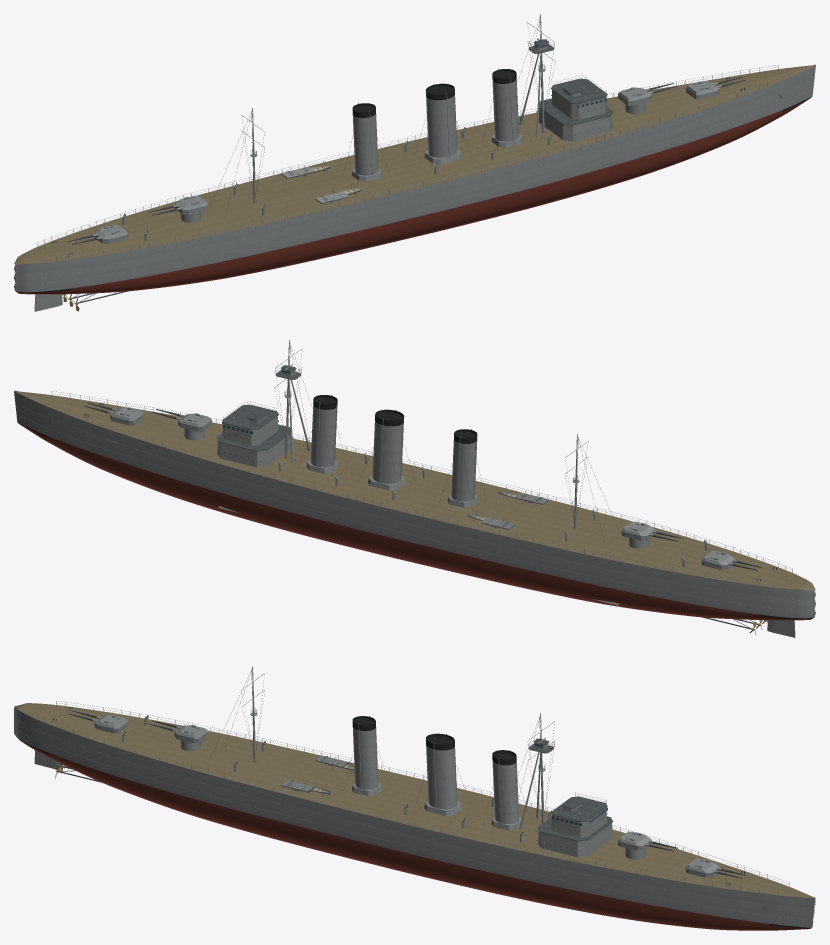
File: county_ca24.glb
The picture shows the model from 3 angles, top to bottom: view 1: azimuth 30°, elevation 25°; view 2: azimuth 150°, elevation 25°; view 3: azimuth 330°, elevation 25°; orthographic projection.
Visible parts, largest first — view 1: County class; view 2: County class; view 3: County class.
Boxes of the visible parts, x1,y1,x2,y2 form: County class: (14,14,815,311); County class: (14,340,815,637); County class: (14,666,815,930).
Bounding box in the file's own units: 192 × 40.4 × 20.96.
9 materials, 8 textured.
